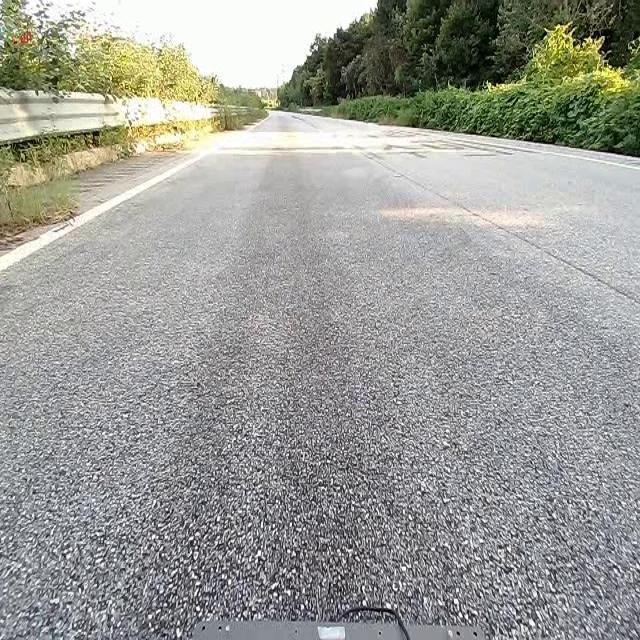Lane: (0, 139, 218, 280), (0, 151, 207, 274)
